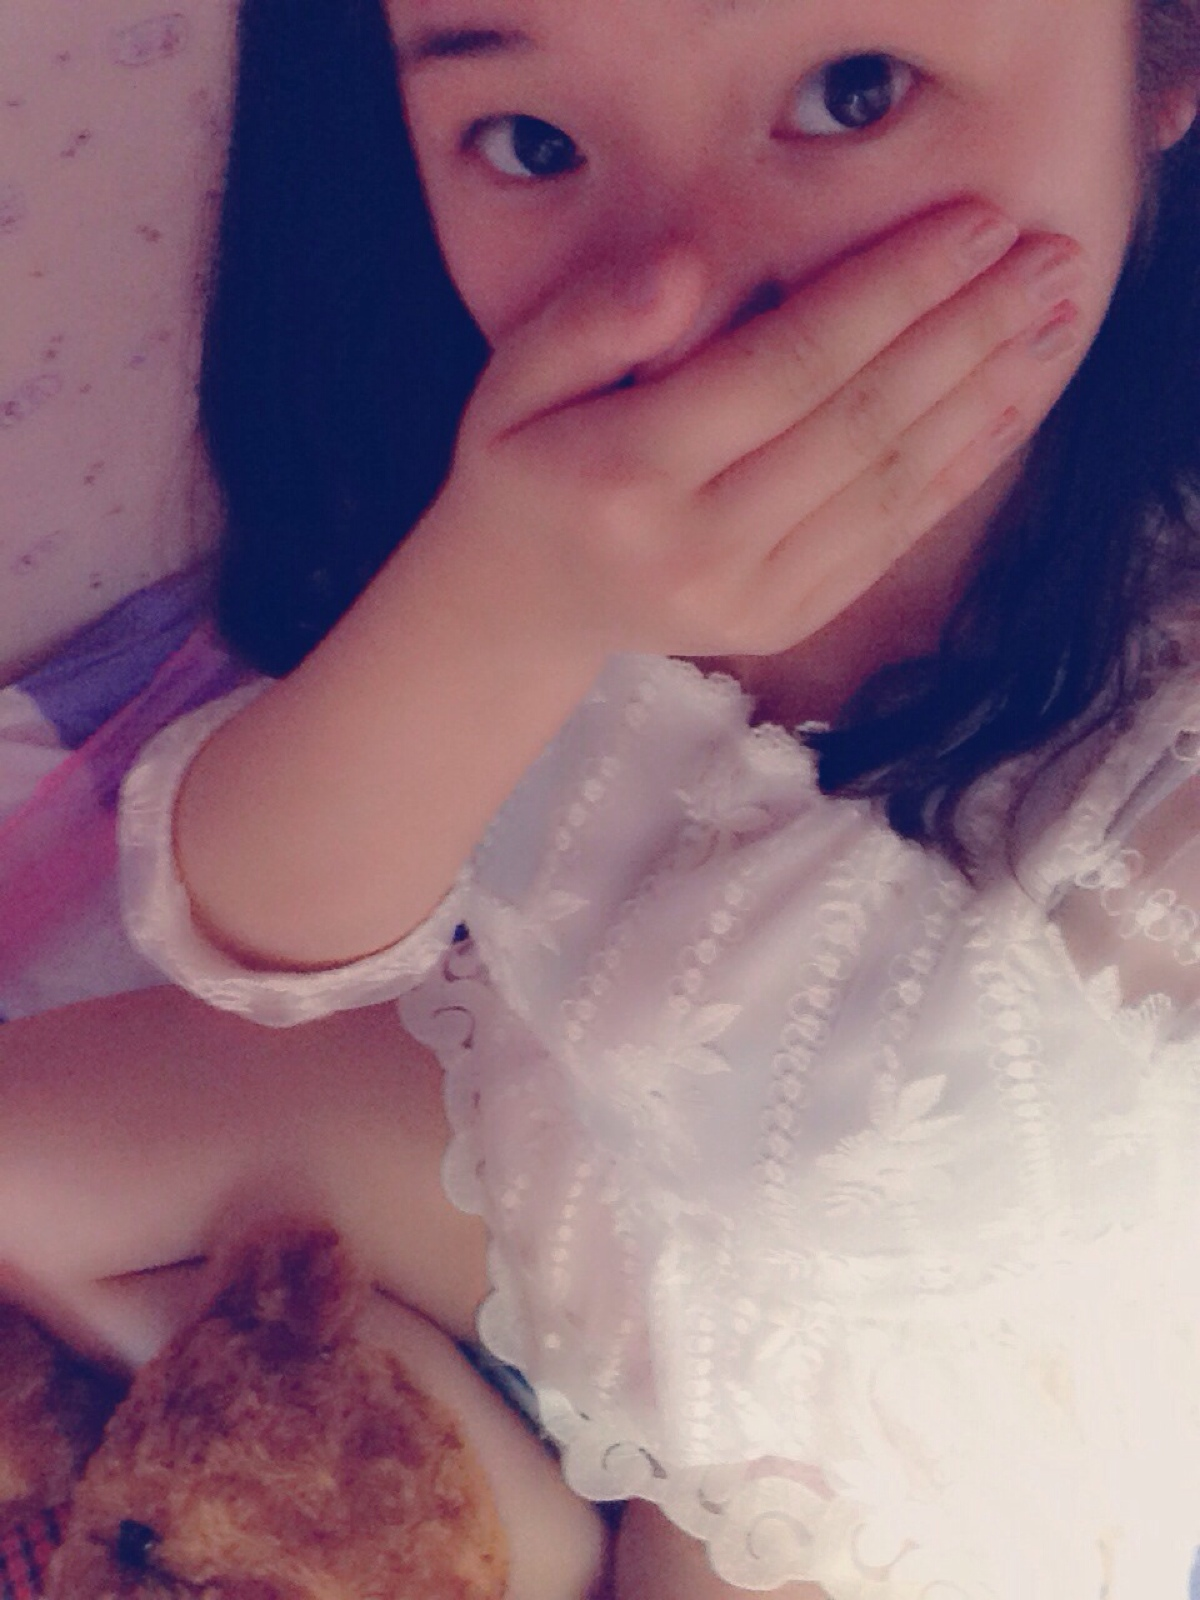face: (398, 1, 1113, 644)
